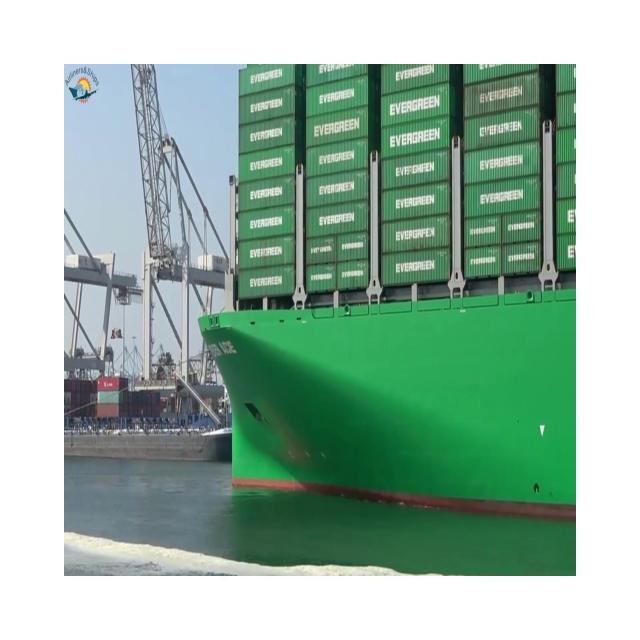OCR: (206, 327, 238, 368)
